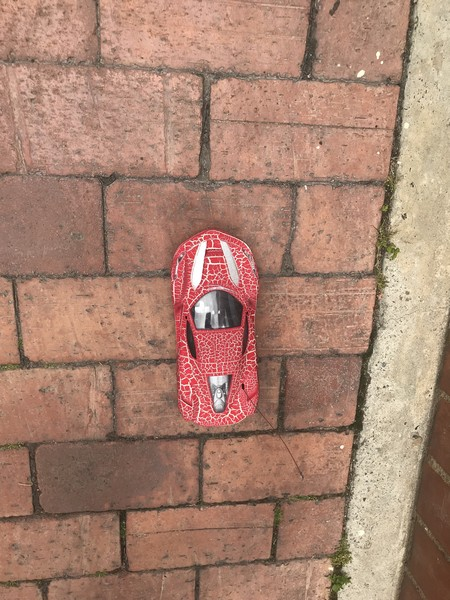RC: (171, 228, 260, 429)
